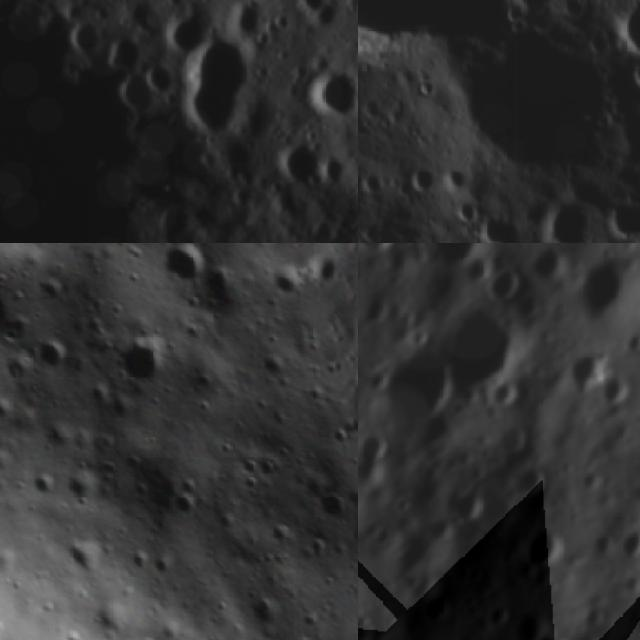crater: (163, 23, 276, 144), (358, 0, 506, 50), (379, 356, 465, 441), (292, 52, 358, 127), (267, 124, 334, 192), (148, 0, 224, 58), (110, 332, 176, 394), (517, 528, 572, 584), (562, 352, 617, 408), (153, 243, 213, 292), (502, 454, 554, 506), (536, 195, 592, 243), (61, 534, 110, 586), (244, 588, 292, 636), (264, 262, 311, 310), (602, 0, 640, 58), (481, 370, 525, 416), (59, 463, 103, 507), (483, 262, 526, 307), (312, 482, 354, 528), (66, 0, 157, 21), (470, 204, 519, 243), (358, 425, 392, 477), (33, 334, 73, 375), (253, 348, 294, 386), (25, 468, 62, 506), (507, 605, 547, 640), (613, 522, 640, 568), (168, 492, 202, 525), (254, 454, 287, 487), (232, 450, 266, 480), (482, 600, 513, 632), (360, 243, 408, 263), (521, 627, 581, 640)
